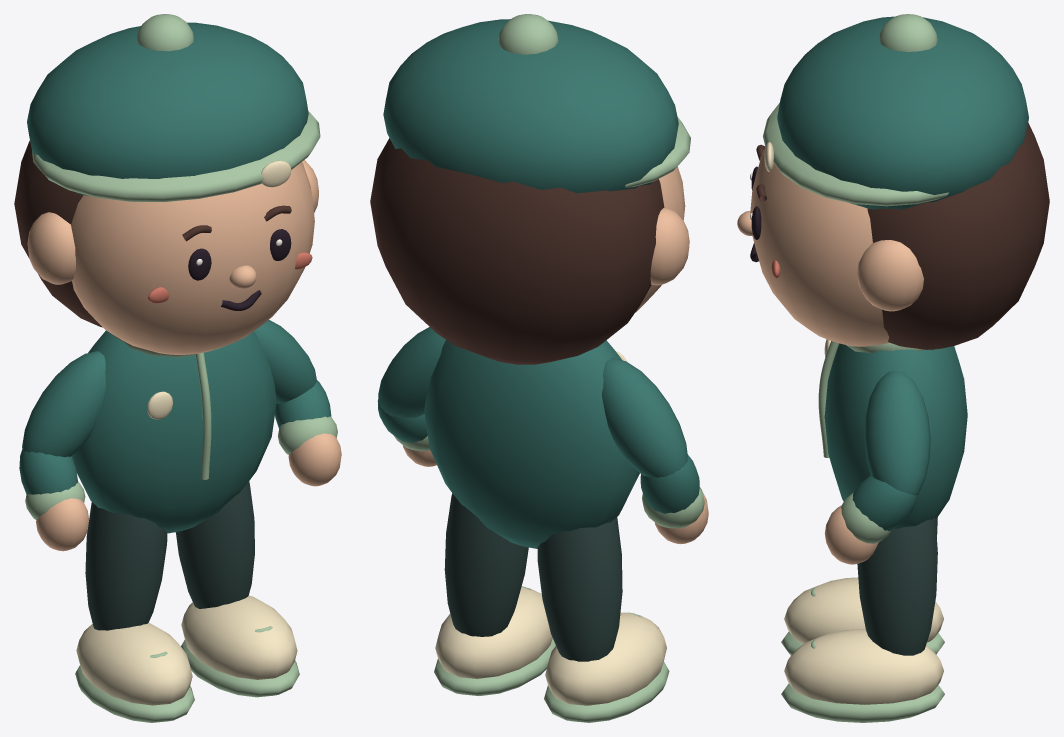
Rendered from river.glb.
The picture shows the model from 3 angles, left to right: view 1: azimuth 30°, elevation 25°; view 2: azimuth 150°, elevation 25°; view 3: azimuth 270°, elevation 25°; orthographic projection. The views are drawn at different scales.
Visible parts, largest first — view 1: Trail beanie, Face, Training jacket, Trouser leg, Sneaker upper, Sneaker upper.001, Trouser leg.001, Folded beanie cuff, Upper sleeve, Hair silhouette, Upper sleeve.001, Ear (+14 smaller); view 2: Hair silhouette, Trail beanie, Training jacket, Trouser leg, Trouser leg.001, Upper sleeve, Sneaker upper, Sneaker upper.001, Upper sleeve.001, Sneaker outsole, Ear, Sneaker outsole.001 (+7 smaller); view 3: Trail beanie, Hair silhouette, Face, Training jacket, Sneaker upper.001, Trouser leg.001, Upper sleeve.001, Sneaker upper, Folded beanie cuff, Ear.001, Sneaker outsole.001, Forearm sleeve.001 (+4 smaller).
Part boxes in pixels (x1,y1,x2,y2): Trail beanie: [27, 22, 308, 195]; Face: [71, 162, 314, 354]; Training jacket: [71, 330, 276, 533]; Trouser leg: [85, 502, 167, 630]; Sneaker upper: [76, 622, 192, 705]; Sneaker upper.001: [181, 595, 297, 679]; Trouser leg.001: [175, 481, 254, 608]; Folded beanie cuff: [32, 111, 320, 201]; Upper sleeve: [22, 351, 105, 457]; Hair silhouette: [14, 140, 102, 327]; Upper sleeve.001: [254, 320, 316, 403]; Ear: [27, 212, 75, 284]; Hair silhouette: [370, 138, 664, 364]; Trail beanie: [383, 19, 678, 193]; Training jacket: [424, 340, 639, 548]; Trouser leg: [537, 517, 622, 661]; Trouser leg.001: [444, 493, 528, 636]; Upper sleeve: [602, 357, 687, 477]; Sneaker upper: [545, 612, 666, 705]; Sneaker upper.001: [435, 587, 552, 678]; Upper sleeve.001: [378, 327, 445, 417]; Sneaker outsole: [544, 661, 669, 722]; Ear: [650, 207, 689, 285]; Sneaker outsole.001: [434, 638, 555, 695]; Trail beanie: [777, 16, 1028, 209]; Hair silhouette: [867, 123, 1049, 349]; Face: [750, 147, 889, 346]; Training jacket: [824, 343, 967, 529]; Sneaker upper.001: [784, 629, 943, 704]; Trouser leg.001: [857, 517, 937, 655]; Upper sleeve.001: [864, 371, 930, 495]; Sneaker upper: [784, 577, 943, 643]; Folded beanie cuff: [763, 103, 948, 206]; Ear.001: [857, 240, 923, 311]; Sneaker outsole.001: [781, 683, 944, 722]; Forearm sleeve.001: [852, 475, 917, 531].
Size of the model in its own units: 1.72 by 3.6 by 1.52.
